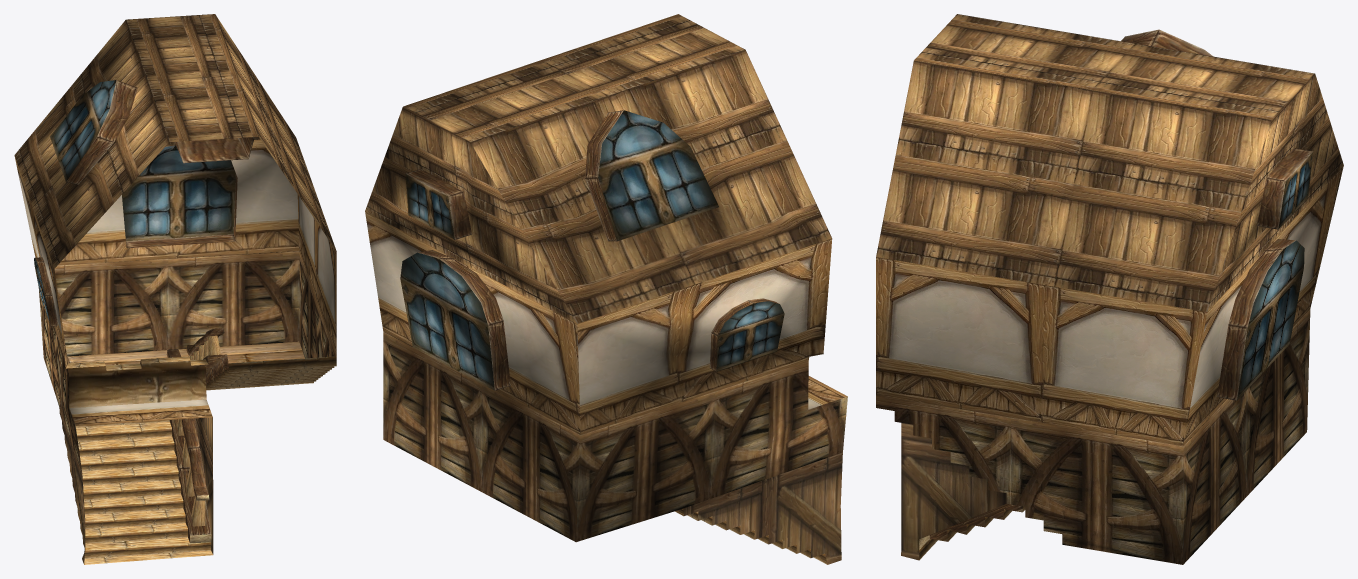
The model's file is stormwind_271.fbx.
3 renders of one model, left to right at view 1: azimuth 30°, elevation 25°; view 2: azimuth 150°, elevation 25°; view 3: azimuth 270°, elevation 25°, orthographic. The views are drawn at different scales.
Parts seen in each view (by area): view 1: stormwind_271_53, stormwind_271_55, stormwind_271_49, stormwind_271_48, stormwind_271_84, stormwind_271_51, stormwind_271_56, stormwind_271_54; view 2: stormwind_271_55, stormwind_271_49, stormwind_271_48, stormwind_271_84, stormwind_271_56, stormwind_271_53; view 3: stormwind_271_55, stormwind_271_48, stormwind_271_49, stormwind_271_56, stormwind_271_53, stormwind_271_84.
Part boxes in pixels (box(x1,y1,x2,y2)): stormwind_271_53: box(35, 80, 336, 564); stormwind_271_55: box(14, 14, 335, 268); stormwind_271_49: box(38, 251, 336, 473); stormwind_271_48: box(14, 139, 336, 425); stormwind_271_84: box(34, 80, 235, 325); stormwind_271_51: box(67, 342, 304, 365); stormwind_271_56: box(59, 356, 213, 564); stormwind_271_54: box(177, 335, 221, 543); stormwind_271_55: box(365, 14, 831, 323); stormwind_271_49: box(383, 331, 847, 542); stormwind_271_48: box(365, 211, 847, 434); stormwind_271_84: box(400, 110, 784, 390); stormwind_271_56: box(684, 452, 842, 564); stormwind_271_53: box(406, 110, 827, 564); stormwind_271_55: box(876, 14, 1343, 311); stormwind_271_48: box(876, 165, 1343, 445); stormwind_271_49: box(876, 309, 1310, 564); stormwind_271_56: box(901, 423, 1006, 560); stormwind_271_53: box(919, 29, 1312, 559); stormwind_271_84: box(1237, 152, 1313, 400).
Bounding box in the file's own units: 12.47 × 15.25 × 12.22.
